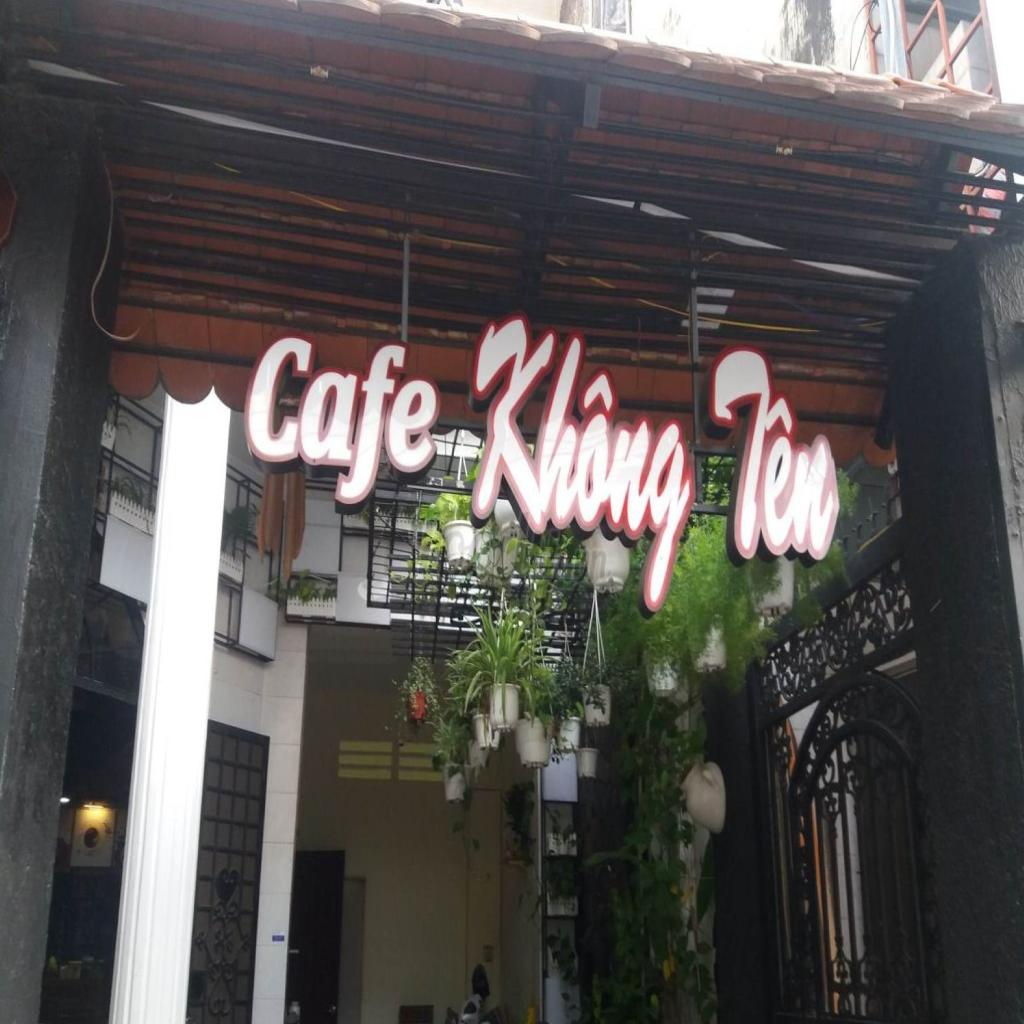text: (440, 308, 696, 626), (234, 331, 446, 504)
